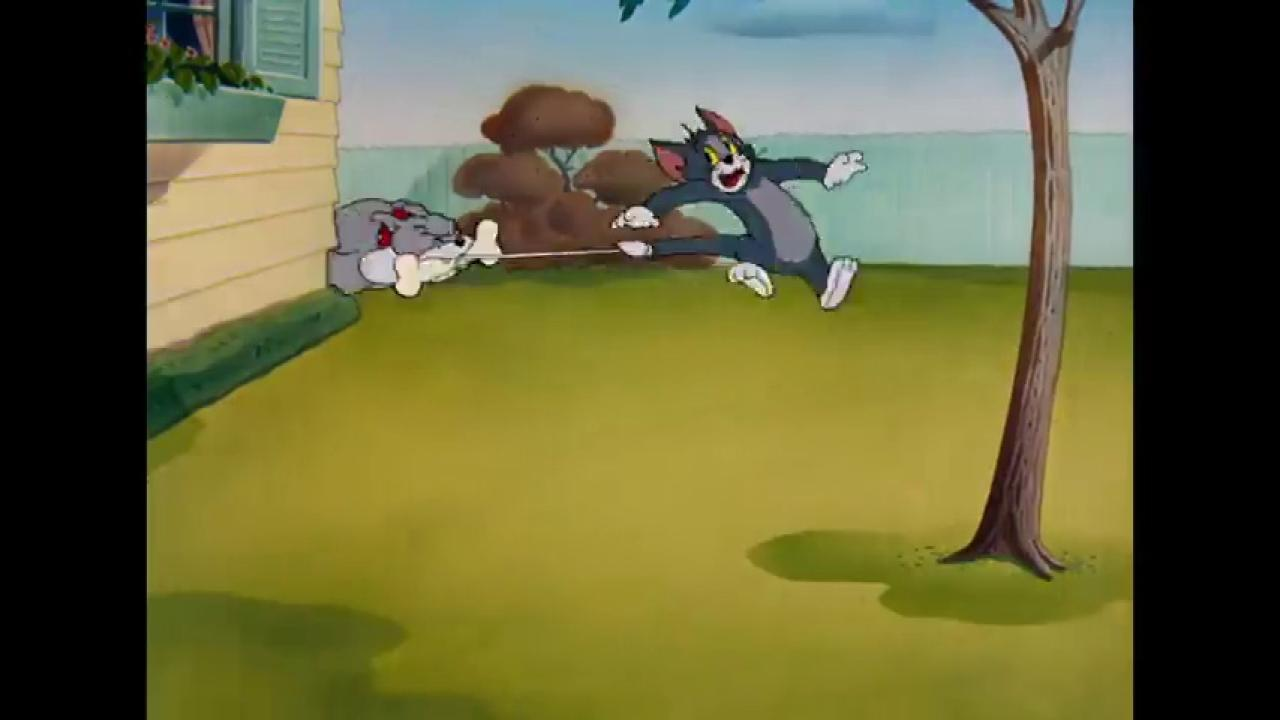Tom: (608, 100, 870, 311)
